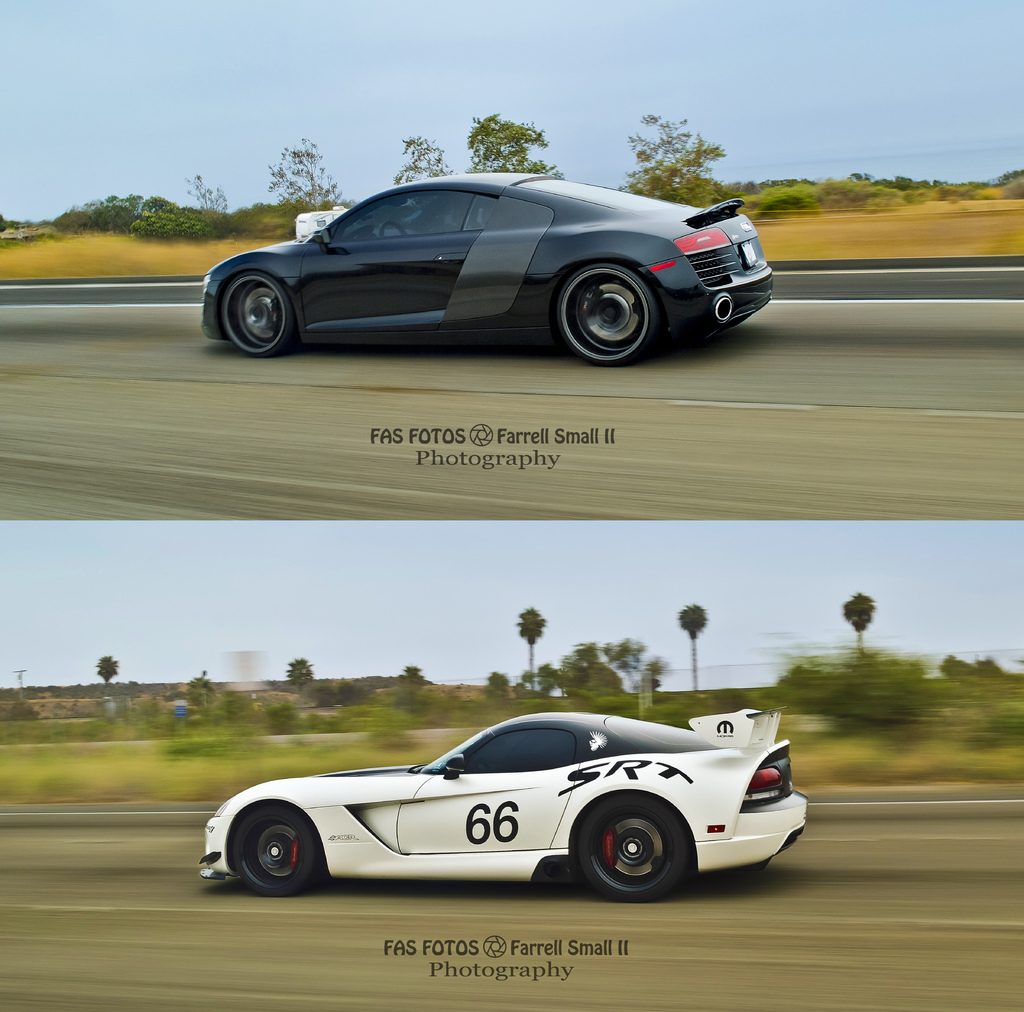mobil: (195, 698, 818, 907), (195, 164, 778, 379)
